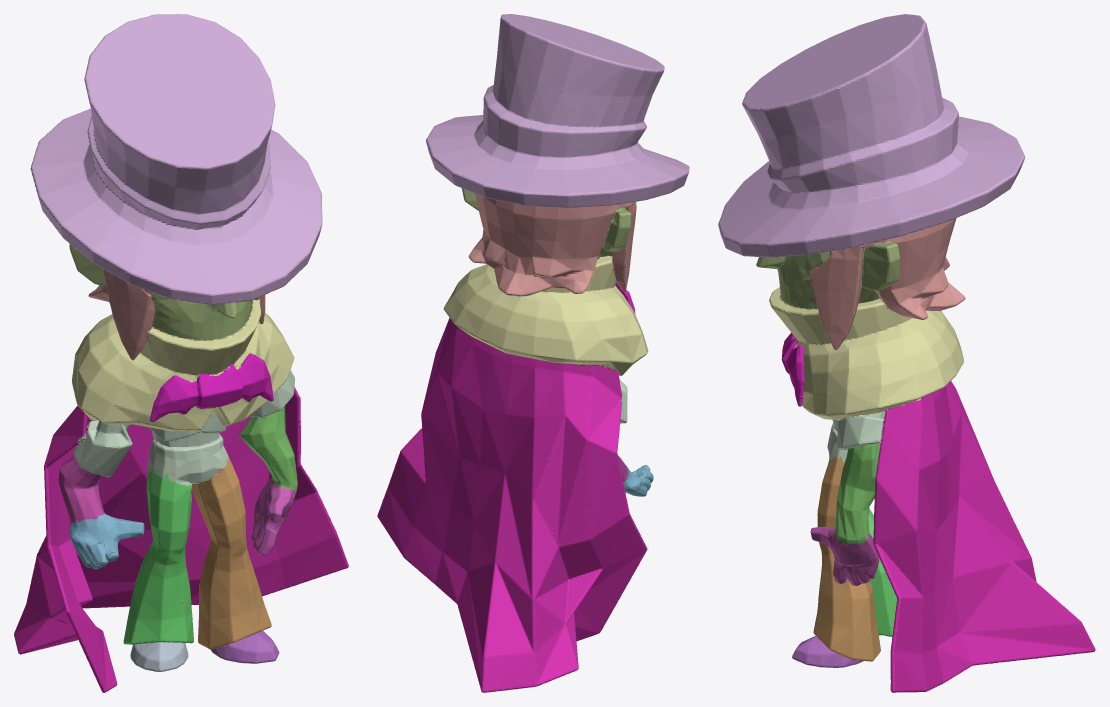
The picture shows the model from 3 angles, left to right: view 1: azimuth 30°, elevation 25°; view 2: azimuth 150°, elevation 25°; view 3: azimuth 270°, elevation 25°; orthographic projection. The views are drawn at different scales.
Visible parts, largest first — view 1: world; view 2: world; view 3: world.
Part boxes in pixels (box(x1,y1,x2,y2)): world: box(14, 14, 348, 692); world: box(377, 14, 689, 692); world: box(718, 14, 1095, 692).
Bounding box in the file's own units: 0.9264 × 1.91 × 1.
